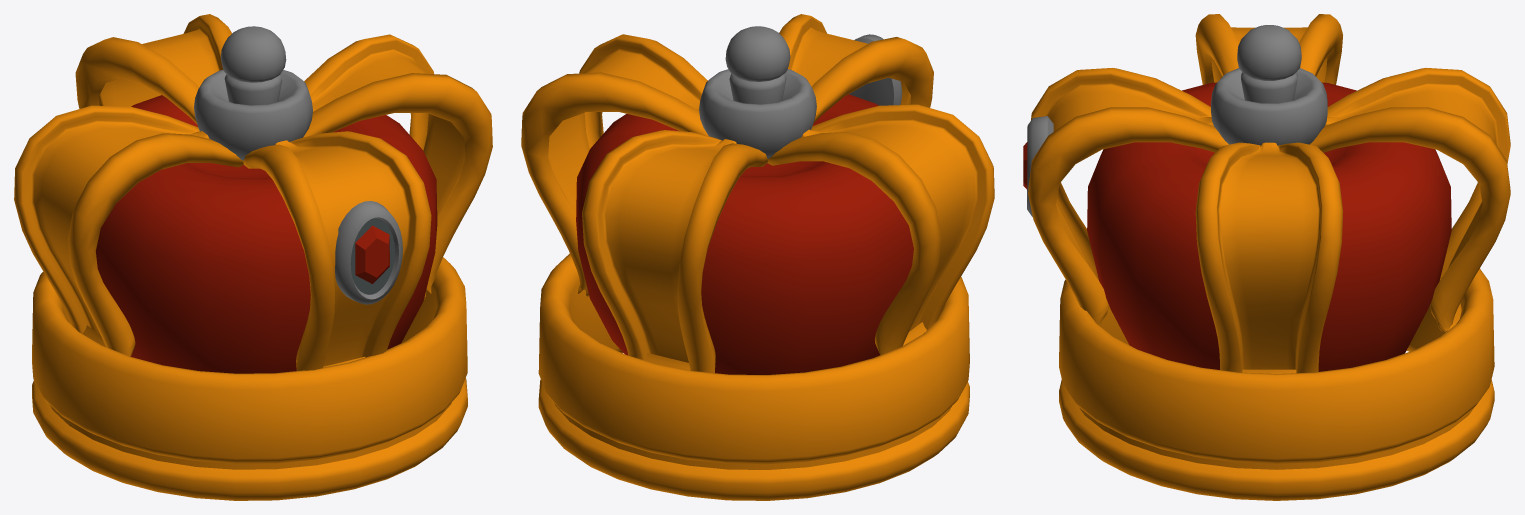
File: crown.glb
The picture shows the model from 3 angles, left to right: view 1: azimuth 30°, elevation 25°; view 2: azimuth 150°, elevation 25°; view 3: azimuth 270°, elevation 25°; orthographic projection.
Parts seen in each view (by area): view 1: Circle.035; view 2: Circle.035; view 3: Circle.035.
Boxes of the visible parts, x1,y1,x2,y2 form: Circle.035: (14, 14, 492, 500); Circle.035: (521, 14, 994, 500); Circle.035: (1023, 14, 1510, 500).
Size of the model in its own units: 1.95 by 1.7 by 1.97.
